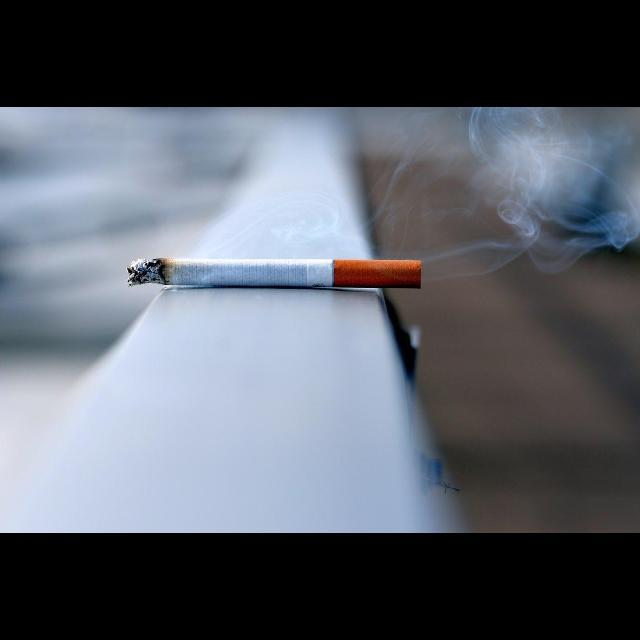rokok: (125, 252, 437, 304)
